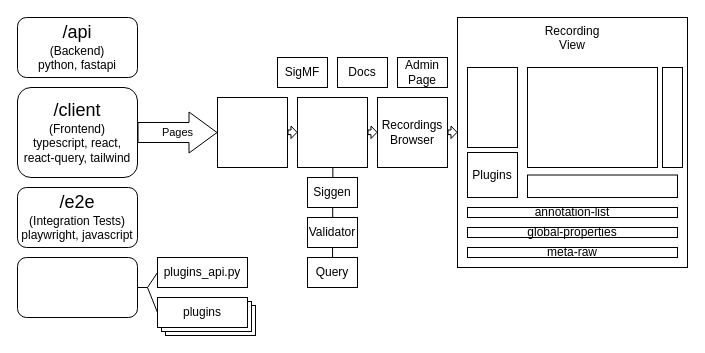
Some shapes in this 705 by 353 pixel diagram are drawn without their labels. The shapes that lost their labels are listed below. From the top down, each one's centre as x and y in pixels, then its label:
At point 492,107: "Settings Pane".
At point 592,117: "DisplaySpectrogram, time-plot, frequency-plot, iq-plot".
At point 672,117: "Scrollbar".
At point 252,132: "Landing Page".
At point 332,132: "Repo Browser".
At point 602,186: "meta-viewer".
At point 77,287: "/plugins (Plugins Backend)".
